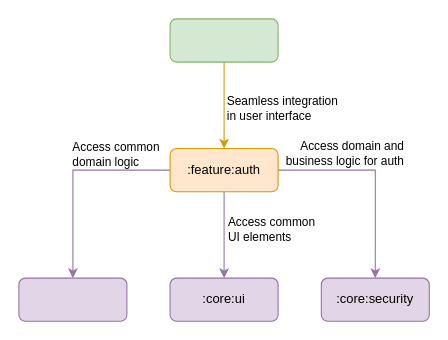
Image size: 448x340. Some labels were removed from this diagram. Each missing label, with the box of its shape:
:app: (169, 18, 278, 62)
:core:common: (18, 277, 127, 321)
